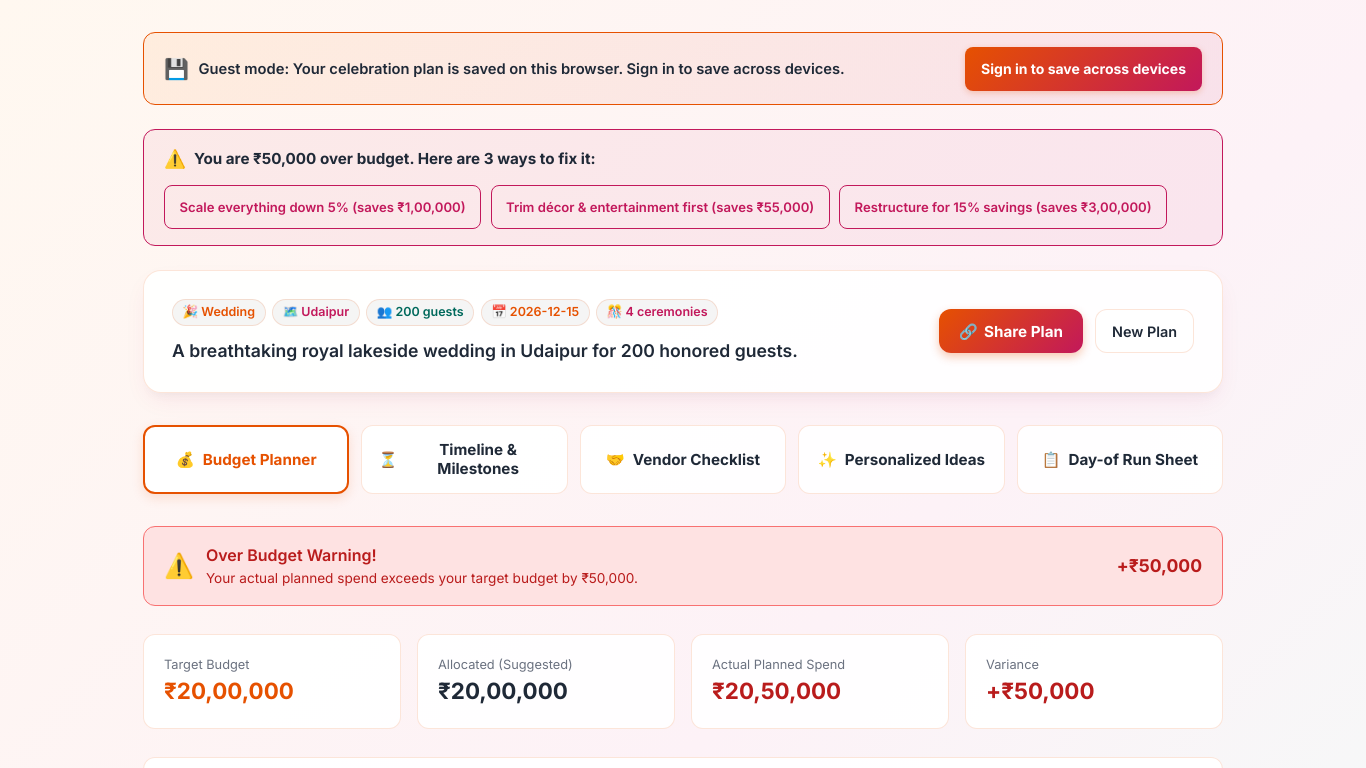
Scenario: Dashboard Component & Accessibility (vitest-axe) › switches to IdeasTab and checks zero axe accessibility violations
Click the tab "✨ Personalized Ideas".
click(901, 460)  # box [798, 425, 1005, 494]
(page scrolled)
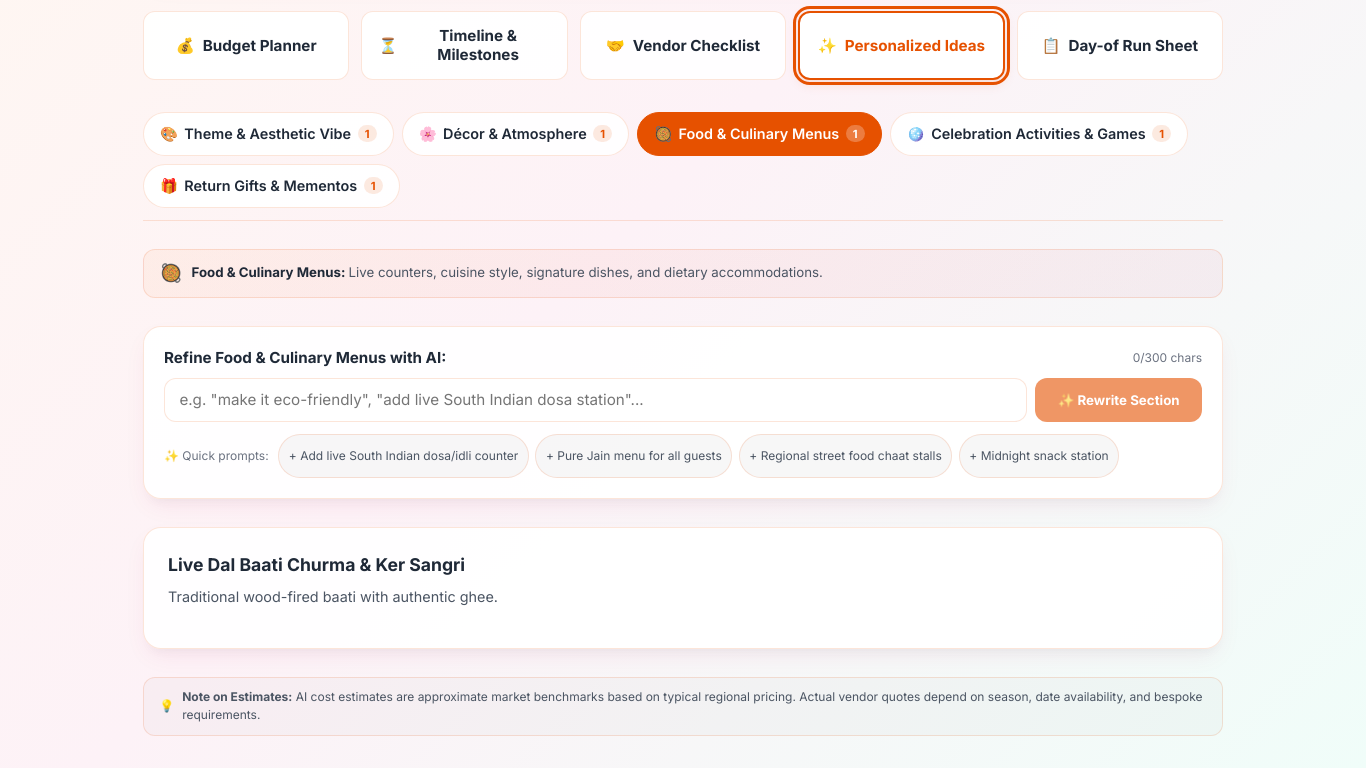
expect the field labelled "Refine Food & Culinary Menus with AI:" is shown: met, box [164, 378, 1027, 422]
expect the heading "Live Dal Baati Churma & Ker Sangri" is shown: met, box [168, 552, 465, 578]
